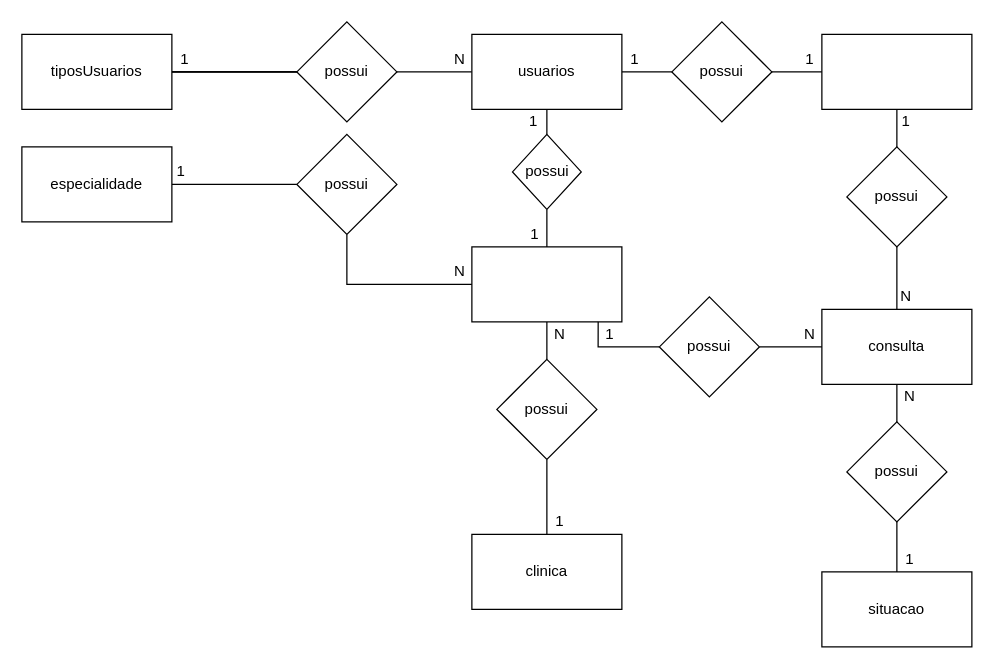
Image size: 994x669. Some labels were removed from this diagram. Here are the shapes that lost their labels. From the top down, the centre of each, then its label:
(x=896, y=71): paciente
(x=546, y=284): medico
